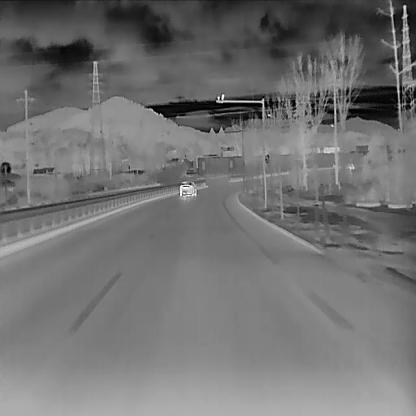car: (179, 180, 196, 196)
